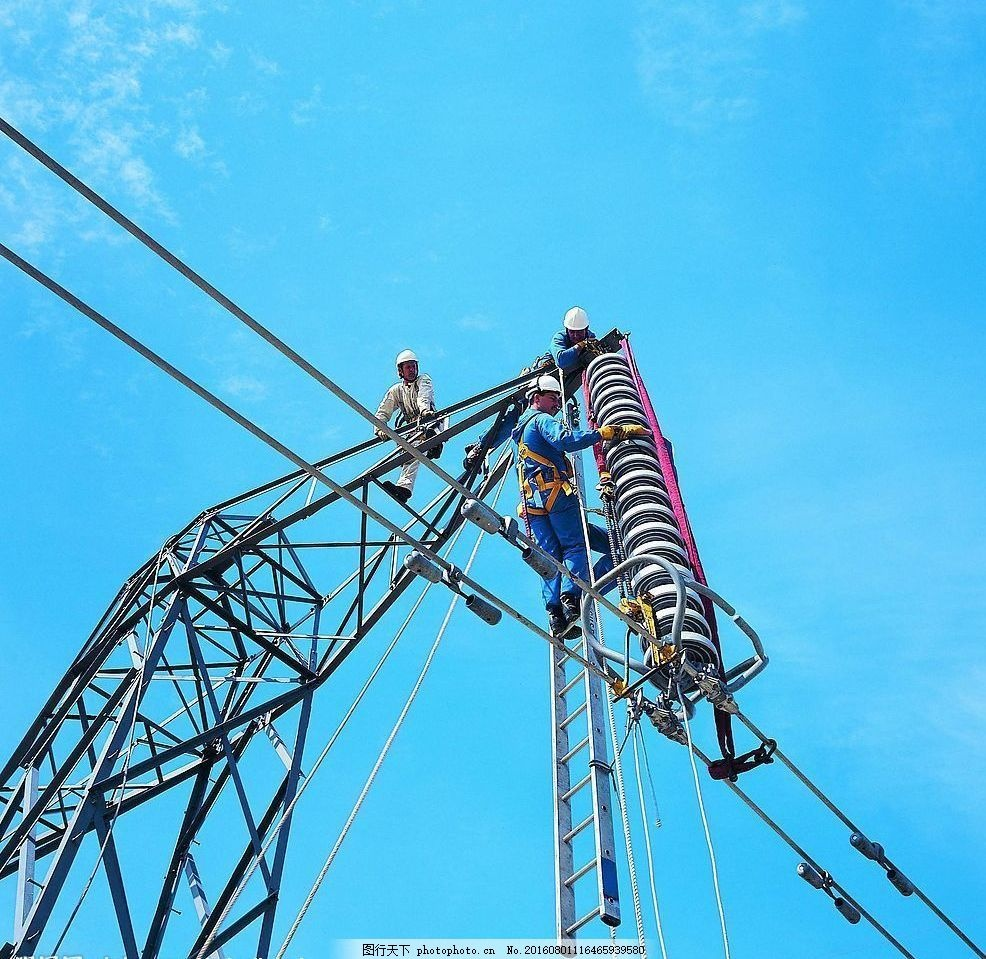white: (527, 375, 559, 416), (562, 305, 591, 342), (396, 350, 418, 380)
